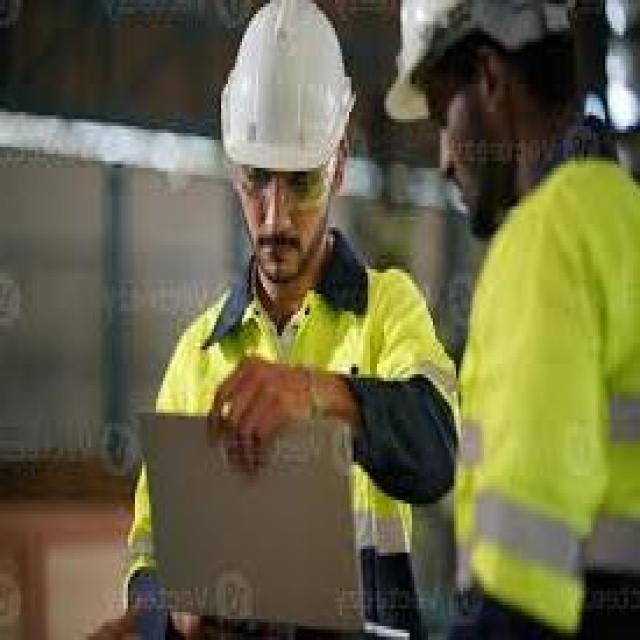Reflective-Jacket: (109, 266, 468, 636), (452, 154, 638, 626)
Safety-Helmet: (379, 0, 635, 129), (216, 3, 361, 182)
